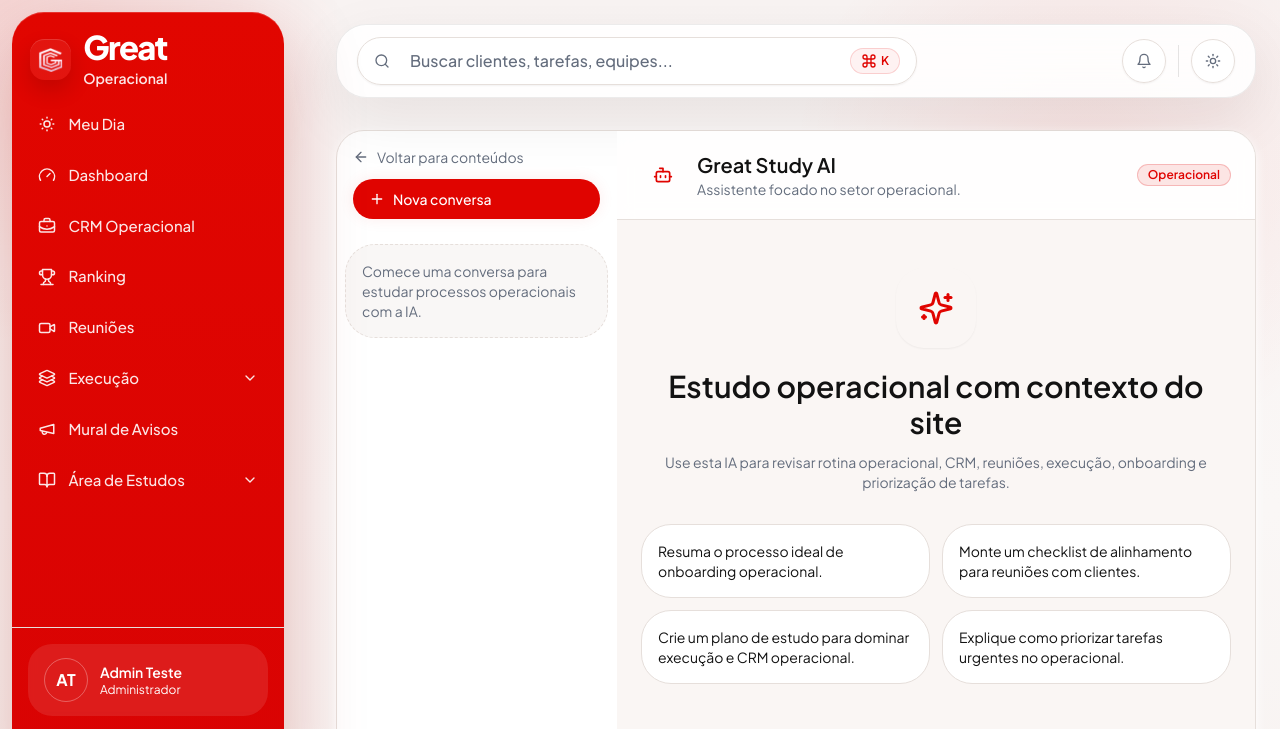
Scenario: Great Study AI - Conversas › permite criar uma nova conversa
Expected: the heading "Great Study AI" is shown, x1=697 y1=152 x2=836 y2=177
Click the button "Nova conversa": x=477, y=199 x1=353 y1=179 x2=600 y2=219
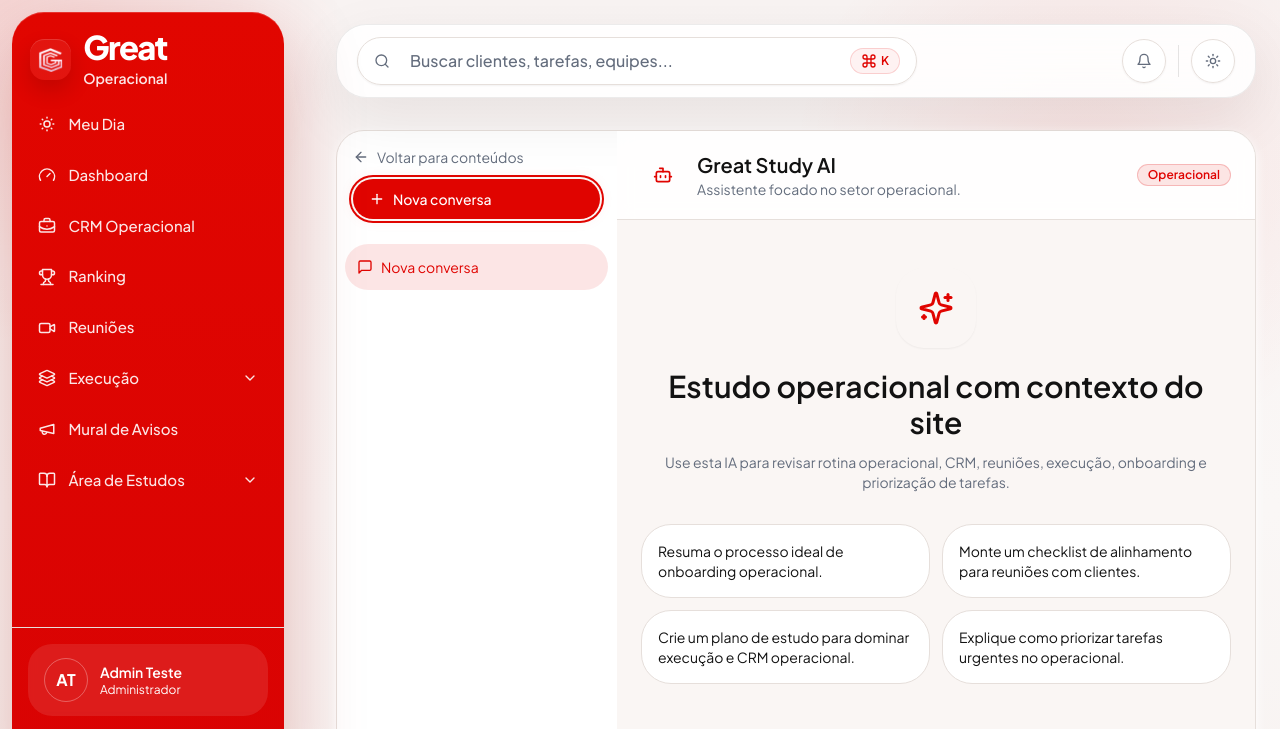
Now the text "Comece uma conversa para estudar processos operacionais com a IA" is gone
